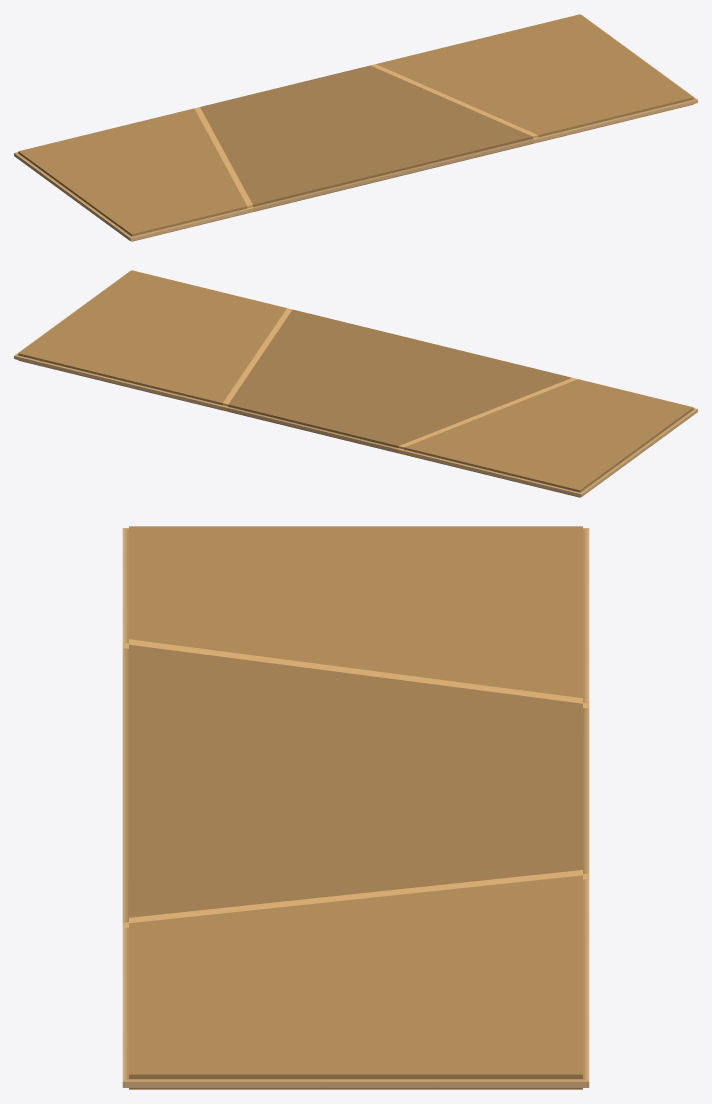
Rendered from Wood.fbx.
The picture shows the model from 3 angles, top to bottom: view 1: azimuth 30°, elevation 25°; view 2: azimuth 150°, elevation 25°; view 3: azimuth 270°, elevation 25°; orthographic projection. The views are drawn at different scales.
Visible parts, largest first — view 1: isl_Plank_01_Def.obj; view 2: isl_Plank_01_Def.obj; view 3: isl_Plank_01_Def.obj.
Part boxes in pixels (x1,y1,x2,y2): isl_Plank_01_Def.obj: (14,14,697,241); isl_Plank_01_Def.obj: (14,270,697,497); isl_Plank_01_Def.obj: (122,526,589,1089).
Size of the model in its own units: 202 by 2.5 by 71.89.
